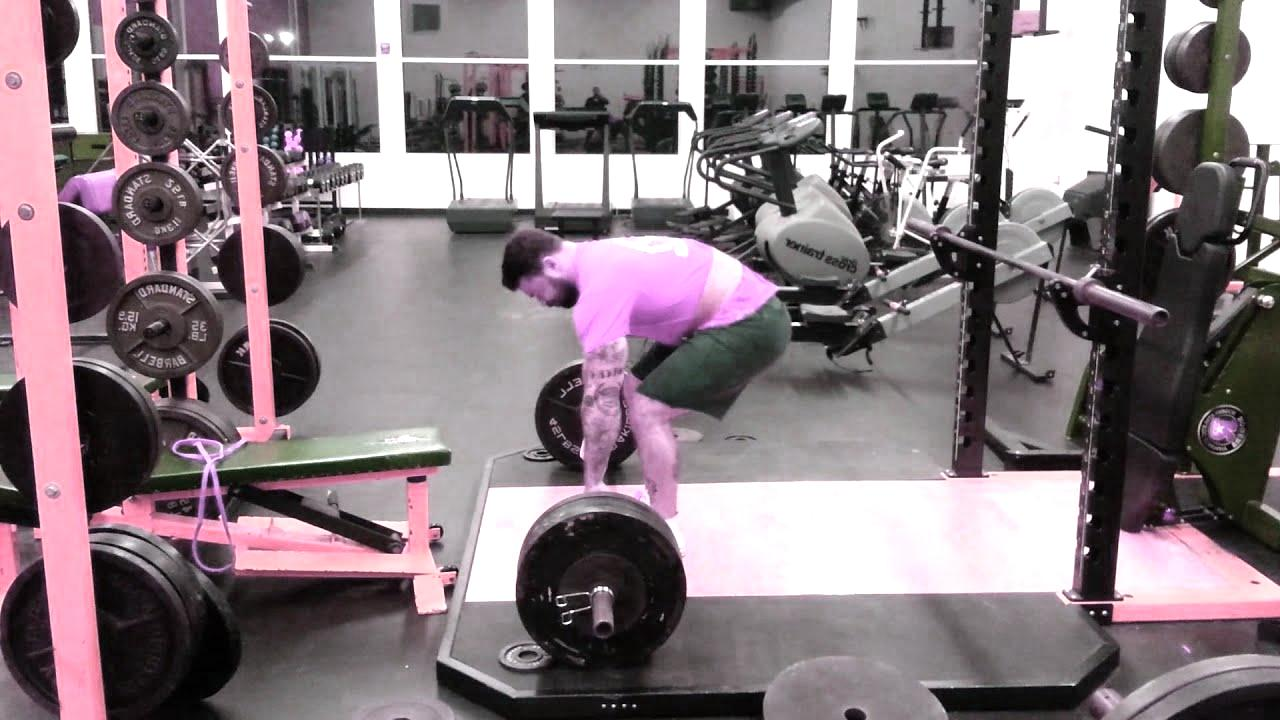Barbell: (590, 615, 615, 644)
